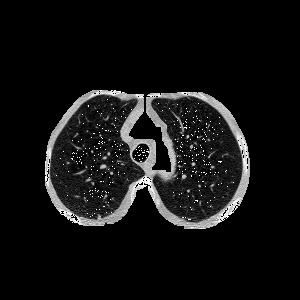PN: (97, 215, 101, 219)
